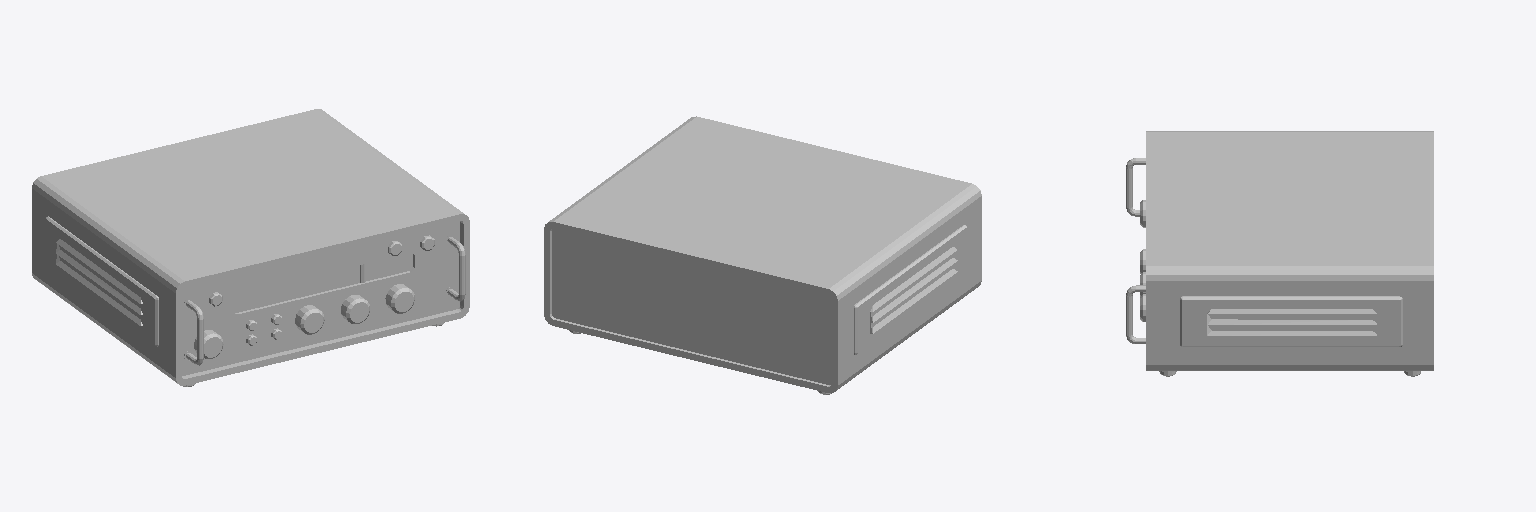
File: military_radio_2.obj
3 views of the same model, side by side, from view 1: azimuth 30°, elevation 25°; view 2: azimuth 150°, elevation 25°; view 3: azimuth 270°, elevation 25° (orthographic).
Visible parts, largest first — view 1: military_radio_2, military_radio_2_knob_4, military_radio_2_knob_2, military_radio_2_knob_3; view 2: military_radio_2; view 3: military_radio_2.
Boxes of the visible parts, x1=… form: military_radio_2: x1=32, y1=109, x2=469, y2=386; military_radio_2_knob_4: x1=385, y1=284, x2=414, y2=313; military_radio_2_knob_2: x1=295, y1=305, x2=324, y2=334; military_radio_2_knob_3: x1=341, y1=295, x2=369, y2=323; military_radio_2: x1=544, y1=116, x2=981, y2=394; military_radio_2: x1=1126, y1=131, x2=1433, y2=376.
Bounding box in the file's own units: 0.49 × 0.175 × 0.4288.